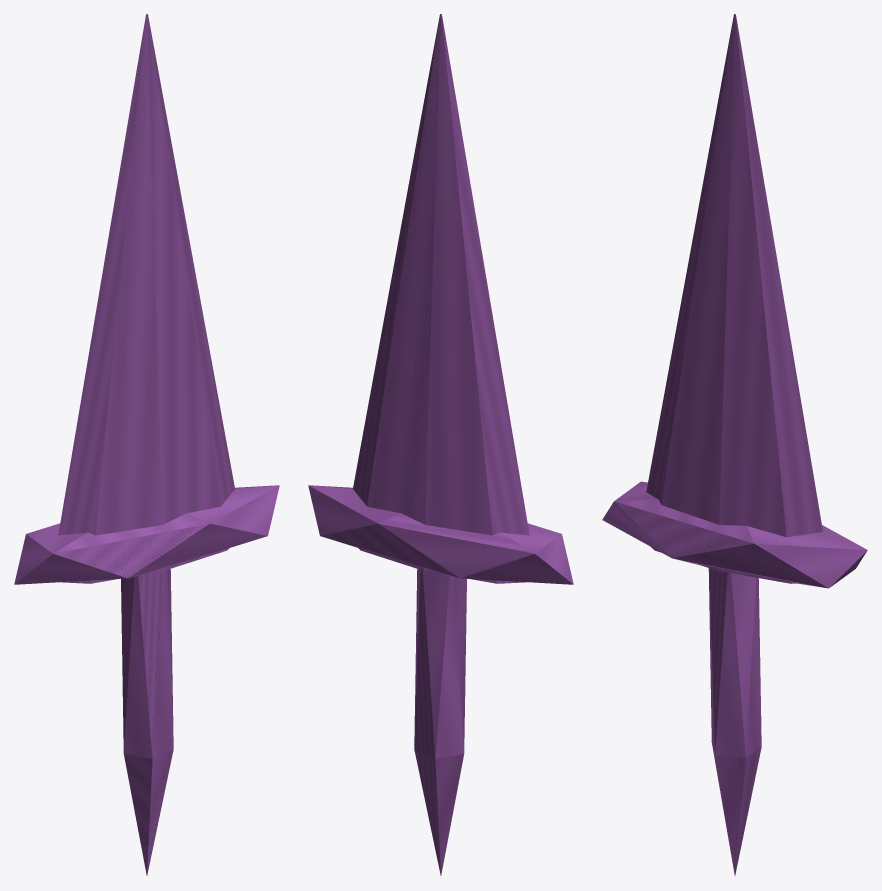
File: crowd_ring.glb
3 views of the same model, side by side, from view 1: azimuth 30°, elevation 25°; view 2: azimuth 150°, elevation 25°; view 3: azimuth 330°, elevation 25° (orthographic).
Parts seen in each view (by area): view 1: gear_crowd_ring; view 2: gear_crowd_ring; view 3: gear_crowd_ring.
Boxes of the visible parts, left/top/right/bottom form: gear_crowd_ring: left=14, top=14, right=279, bottom=875; gear_crowd_ring: left=308, top=14, right=573, bottom=875; gear_crowd_ring: left=602, top=14, right=867, bottom=875.
Bounding box in the file's own units: 0.3578 × 1.11 × 0.1021.
1 material, 1 textured.
